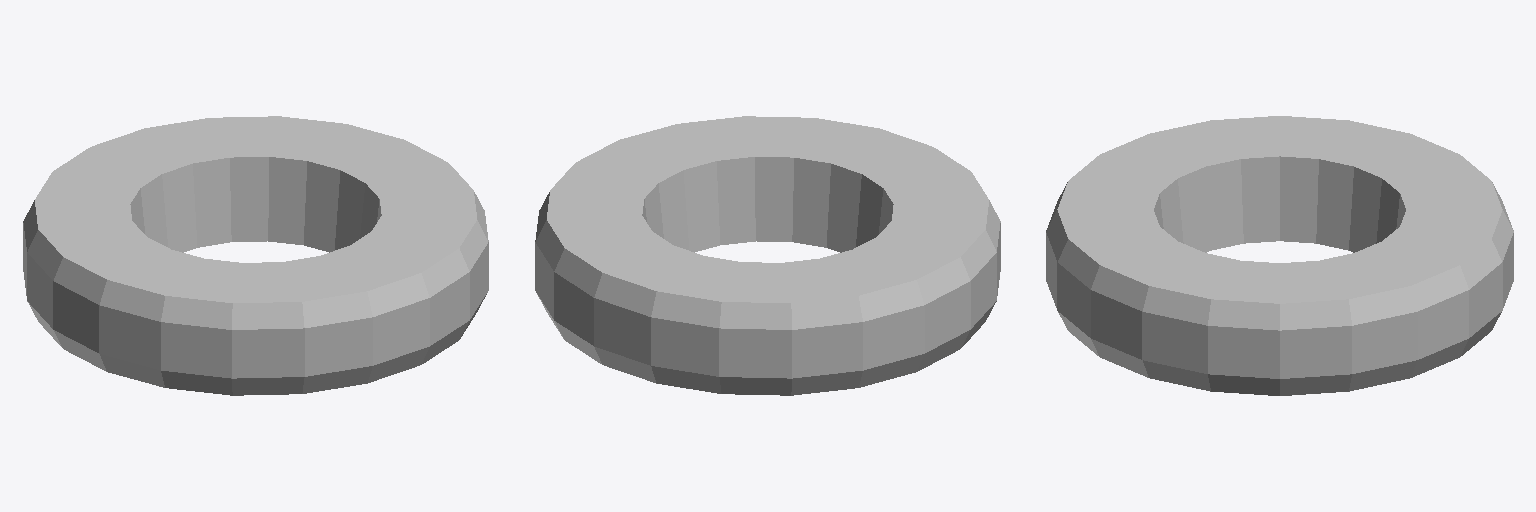
File: reifen-projektil.obj
The picture shows the model from 3 angles: view 1: azimuth 30°, elevation 25°; view 2: azimuth 150°, elevation 25°; view 3: azimuth 270°, elevation 25°; orthographic projection.
Visible parts, largest first — view 1: reifen defends og; view 2: reifen defends og; view 3: reifen defends og.
Boxes of the visible parts, <box> form: reifen defends og: <box>23,116,488,395</box>; reifen defends og: <box>535,116,1000,395</box>; reifen defends og: <box>1046,116,1513,395</box>.
Bounding box in the file's own units: 0.3172 × 0.0691 × 0.3172.